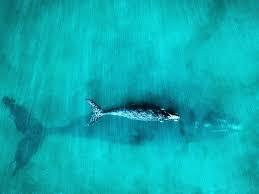Animal: (0, 93, 246, 174), (83, 97, 182, 131)
